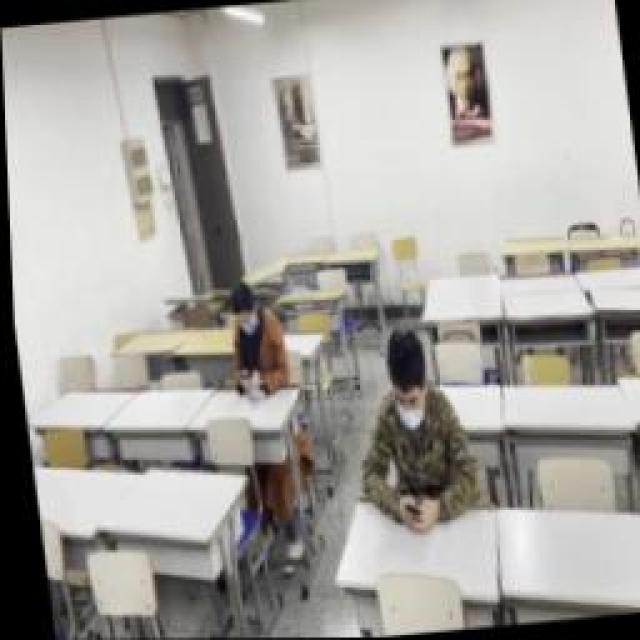phone: (347, 333, 475, 525), (217, 280, 285, 392)
